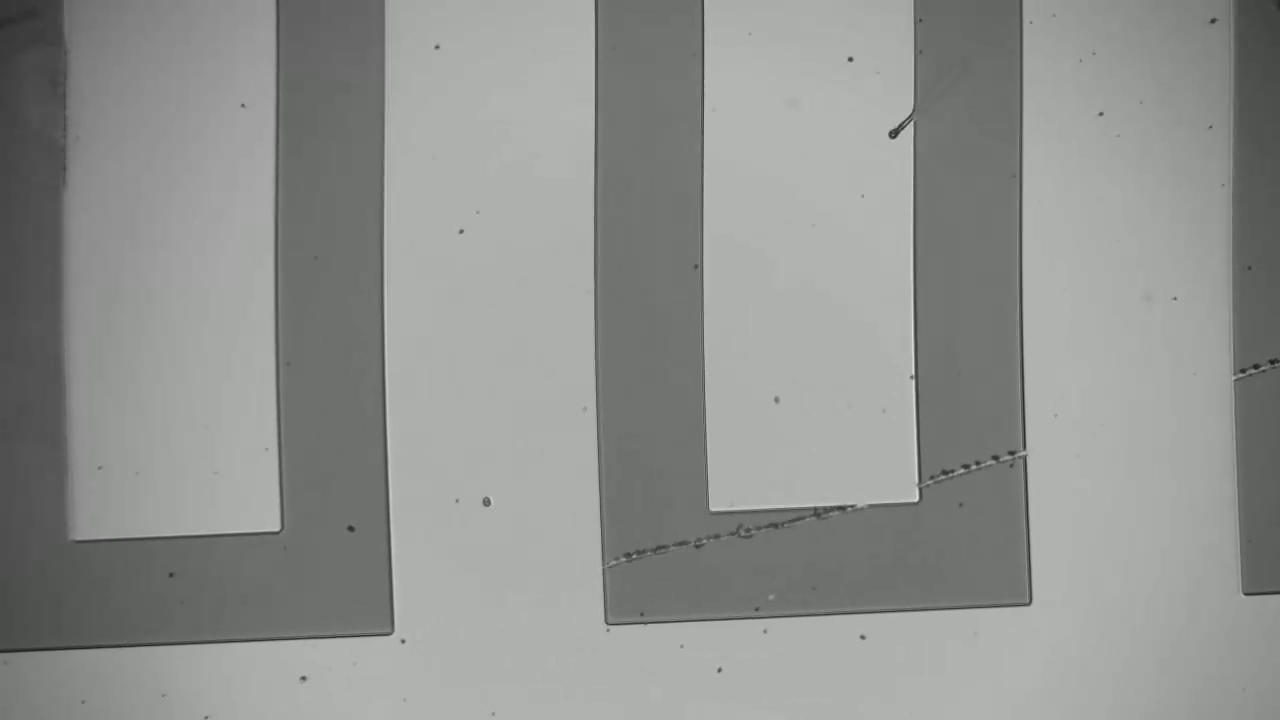scratch: (619, 450, 1027, 575), (1239, 357, 1280, 379)
